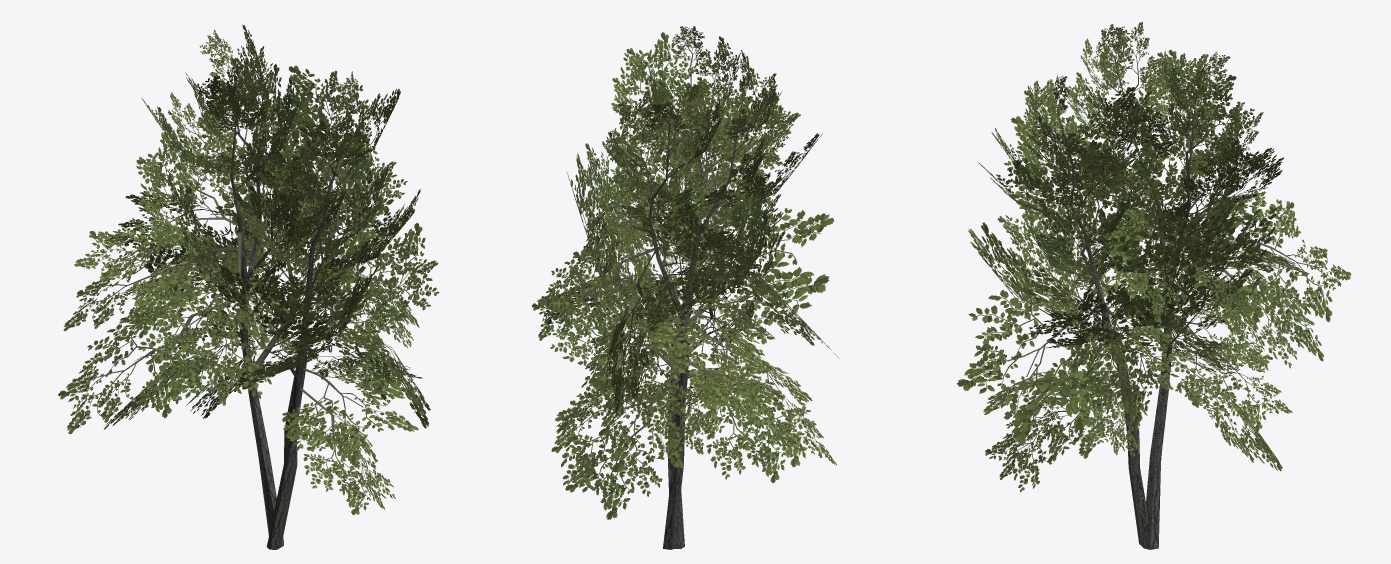
Rendered from tree_1.fbx.
3 renders of one model, left to right at view 1: azimuth 30°, elevation 25°; view 2: azimuth 150°, elevation 25°; view 3: azimuth 270°, elevation 25°, orthographic. The views are drawn at different scales.
Visible parts, largest first — view 1: Tree-01-1_0; view 2: Tree-01-1_0; view 3: Tree-01-1_0.
Part boxes in pixels (bbox=[...]): Tree-01-1_0: bbox=[58, 25, 439, 549]; Tree-01-1_0: bbox=[532, 26, 839, 549]; Tree-01-1_0: bbox=[956, 22, 1351, 549].
Bounding box in the file's own units: 506 × 739 × 617.
6 materials, 6 textured.
